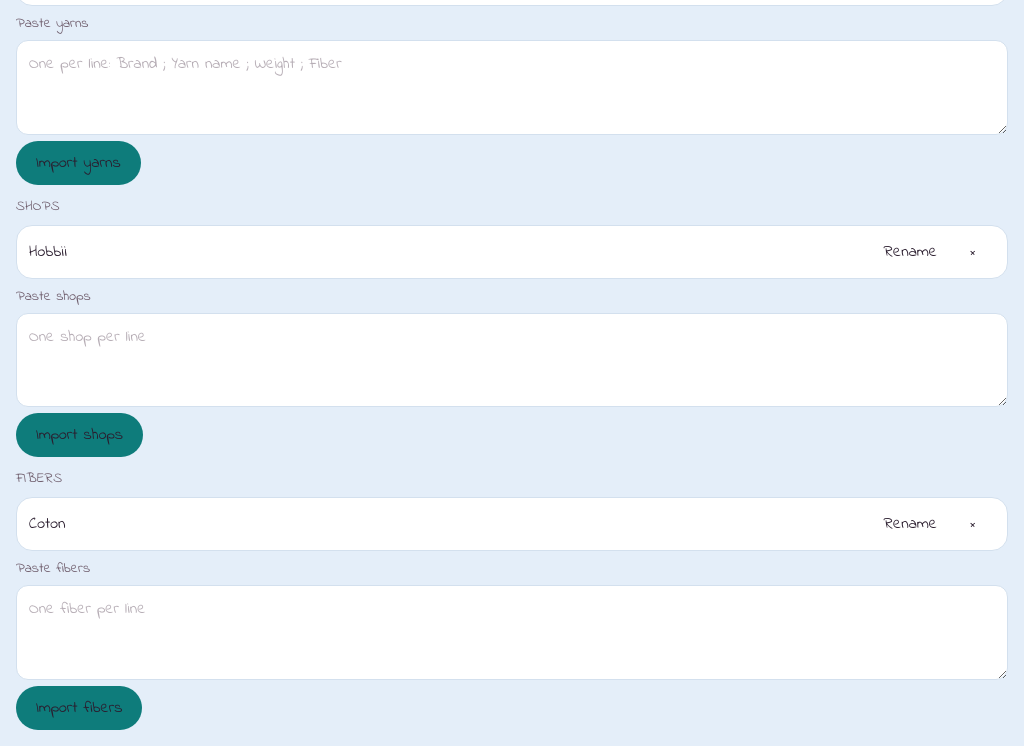
Test: cancelling a rename restores the row
(page scrolled)
What coordinates should you click on to do the following:
click the button with aria-label "Rename Coton"
I would click on:
 (910, 524)
Its box is [876,502,945,546].
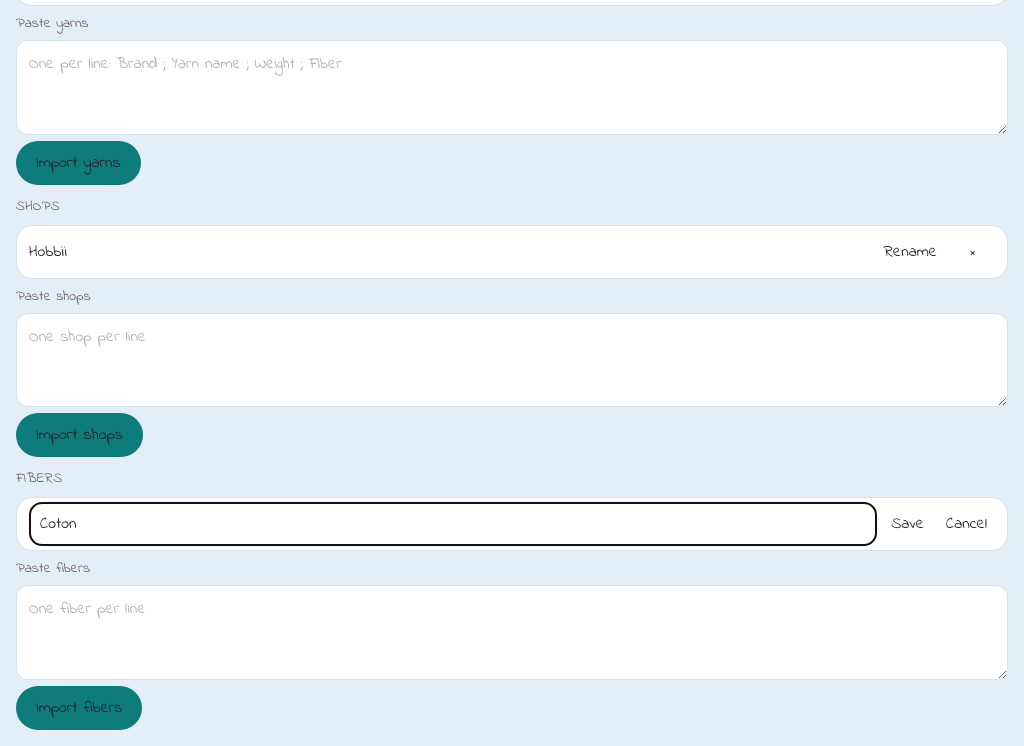
Result: the field named "New name for Coton" is shown at [29,502,877,546]
What coordinates should you click on to do the following:
click the button "Cancel"
I would click on:
 (966, 524)
Its box is [938,502,995,546].
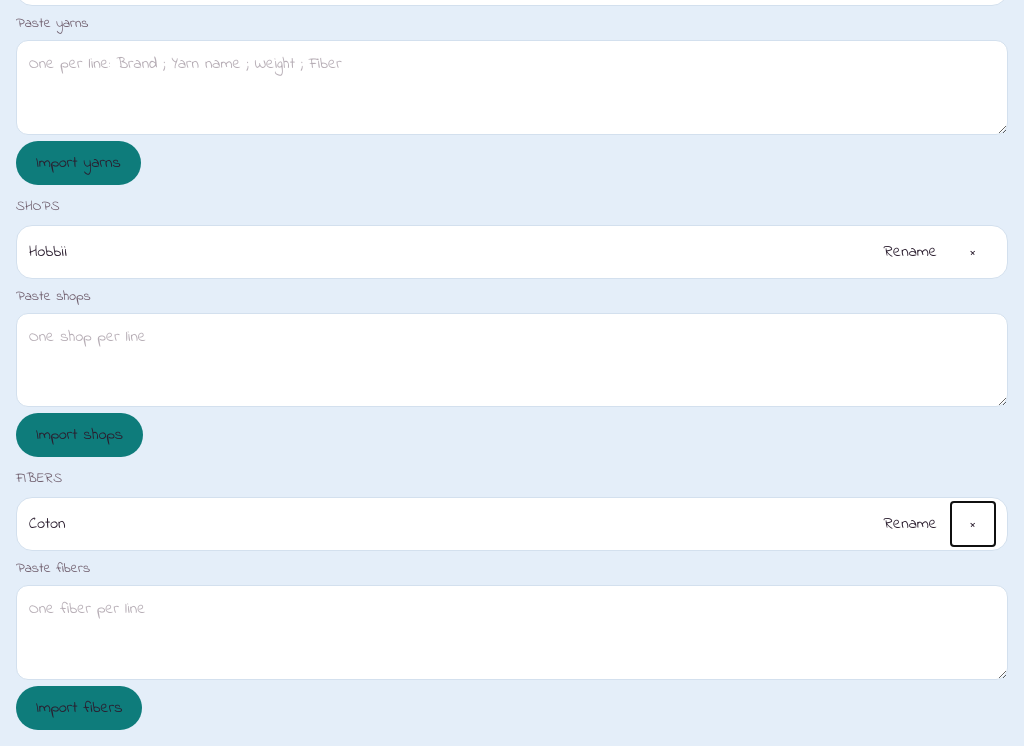
Result: the element "Fibers" shows "Coton" at [29,512,66,536]
